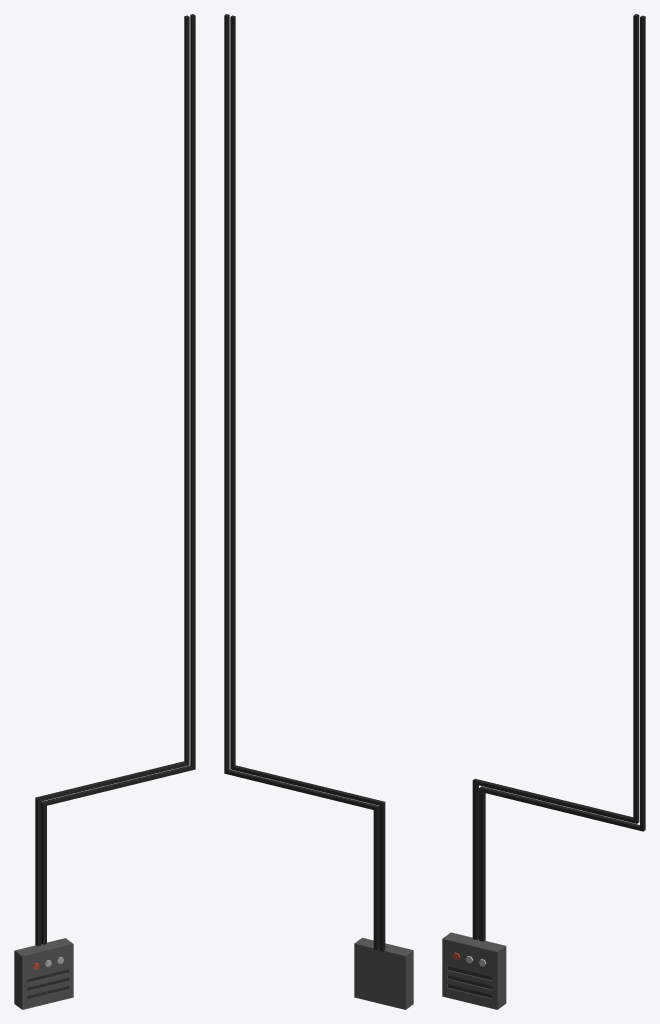
The model's file is WallDecor_01.fbx.
3 views of the same model, side by side, from view 1: azimuth 30°, elevation 25°; view 2: azimuth 150°, elevation 25°; view 3: azimuth 330°, elevation 25° (orthographic). The views are drawn at different scales.
Visible parts, largest first — view 1: WallDecor_01; view 2: WallDecor_01; view 3: WallDecor_01.
Boxes of the visible parts, bbox=[...] form: WallDecor_01: bbox=[14, 14, 195, 1009]; WallDecor_01: bbox=[224, 14, 413, 1009]; WallDecor_01: bbox=[442, 14, 645, 1009].
Bounding box in the file's own units: 151 × 758 × 13.98.
